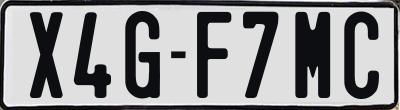4: (74, 11, 113, 98)
7: (241, 10, 280, 97)
C: (341, 10, 382, 103)
F: (196, 10, 235, 97)
G: (124, 8, 159, 102)
M: (293, 12, 330, 100)
X: (30, 9, 64, 99)
